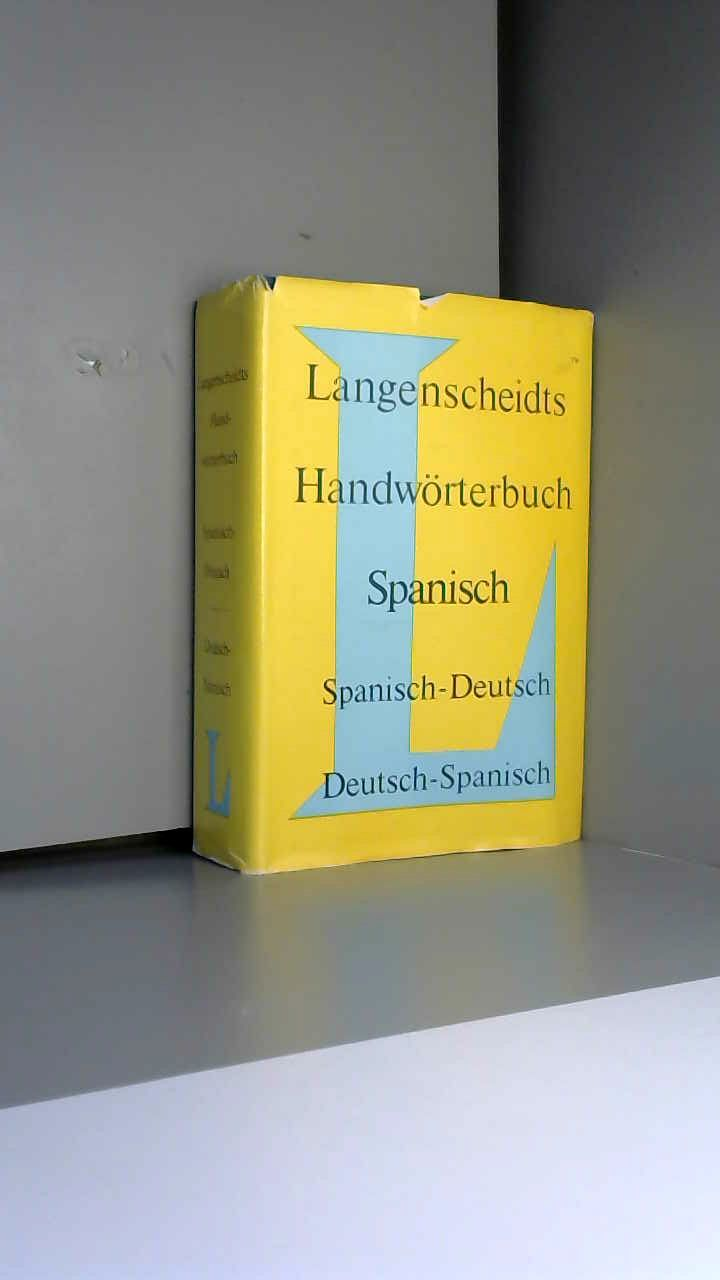book: (147, 236, 630, 924)
